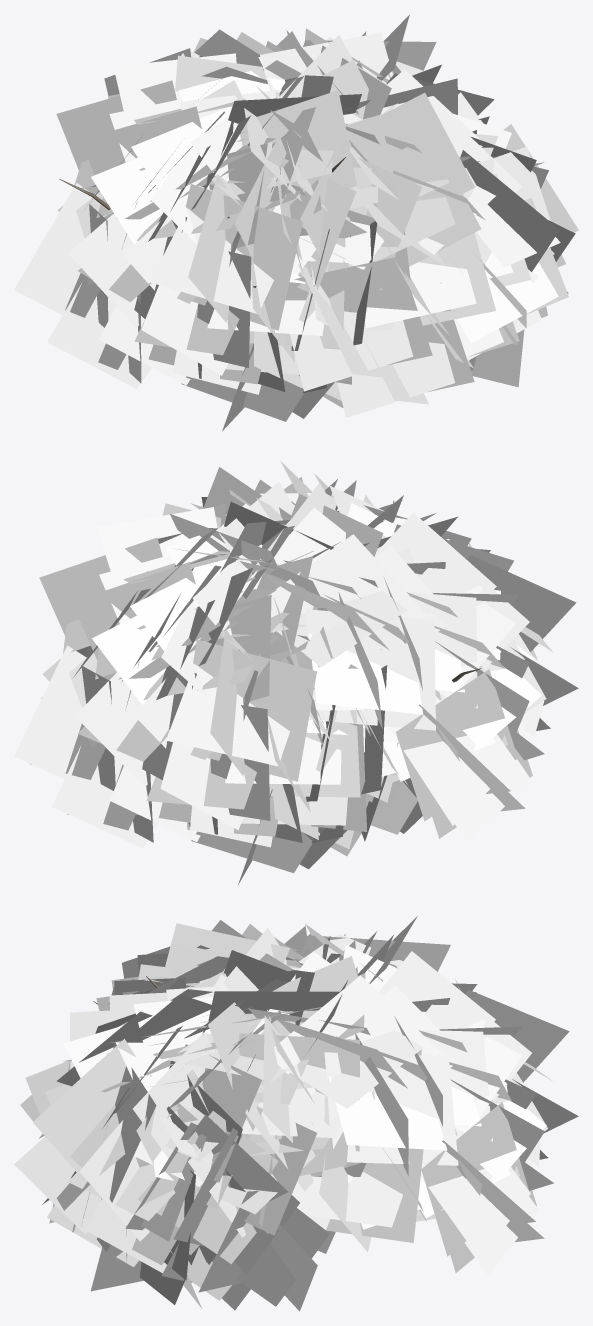
File: Flower_G_01.fbx
3 views of the same model, one above another, from view 1: azimuth 30°, elevation 25°; view 2: azimuth 150°, elevation 25°; view 3: azimuth 270°, elevation 25° (orthographic).
Visible parts, largest first — view 1: Flower_G_01; view 2: Flower_G_01; view 3: Flower_G_01.
Part boxes in pixels (<box>): Flower_G_01: <box>14,14,578,431</box>; Flower_G_01: <box>14,460,578,885</box>; Flower_G_01: <box>14,916,578,1311</box>.
Size of the model in its own units: 217 by 135 by 226.
2 materials, 2 textured.
